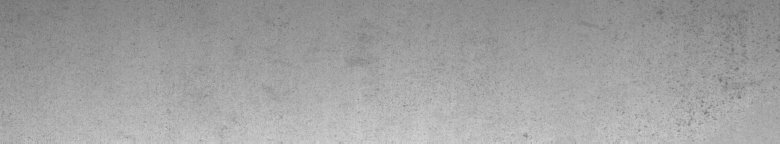ib: (657, 9, 763, 132)
